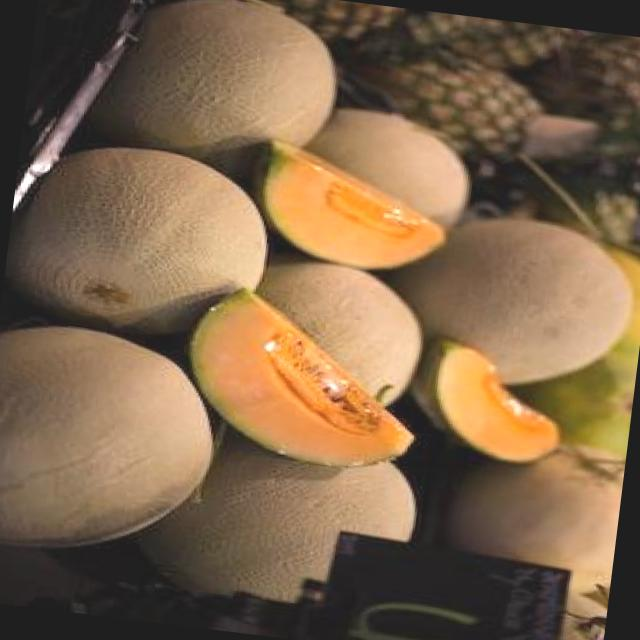cantaloupe: (0, 136, 282, 352), (0, 321, 229, 568), (176, 287, 427, 478), (106, 0, 338, 176), (243, 137, 458, 279), (401, 333, 569, 474)
